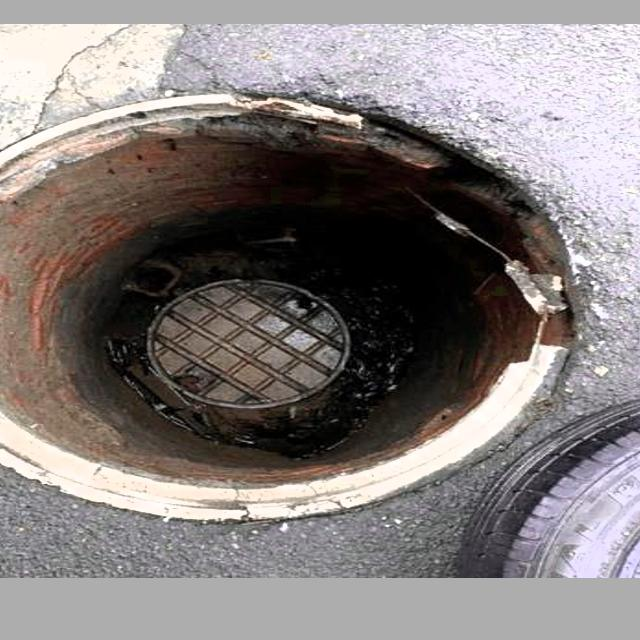lose: (0, 95, 596, 532)
